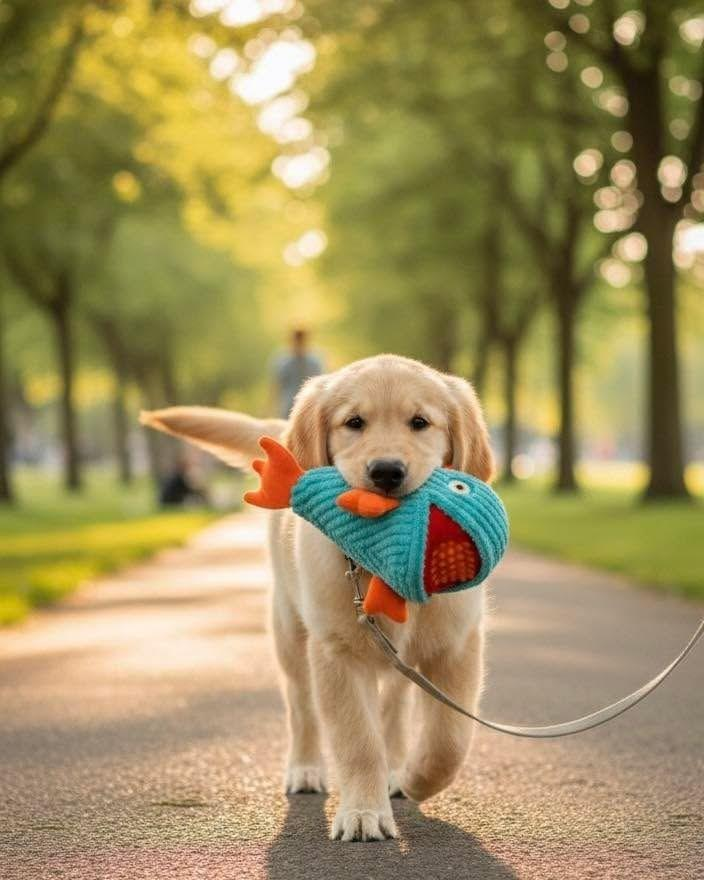puppy-dog: (139, 352, 502, 844)
